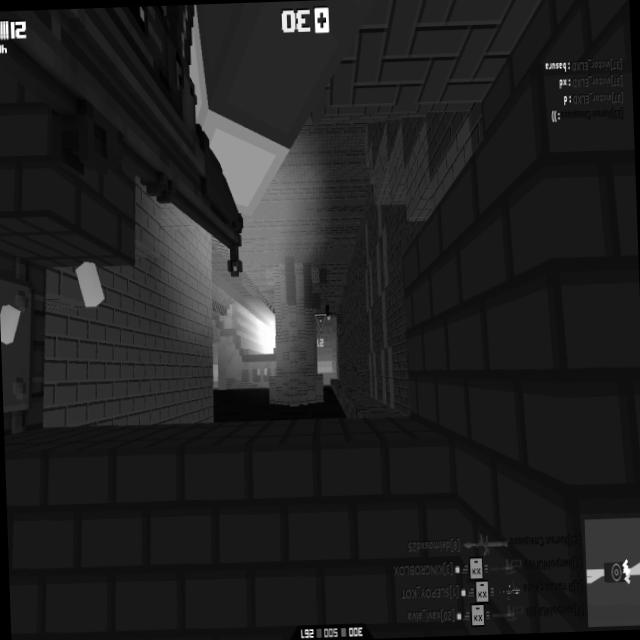enemy: (324, 302, 331, 322)
